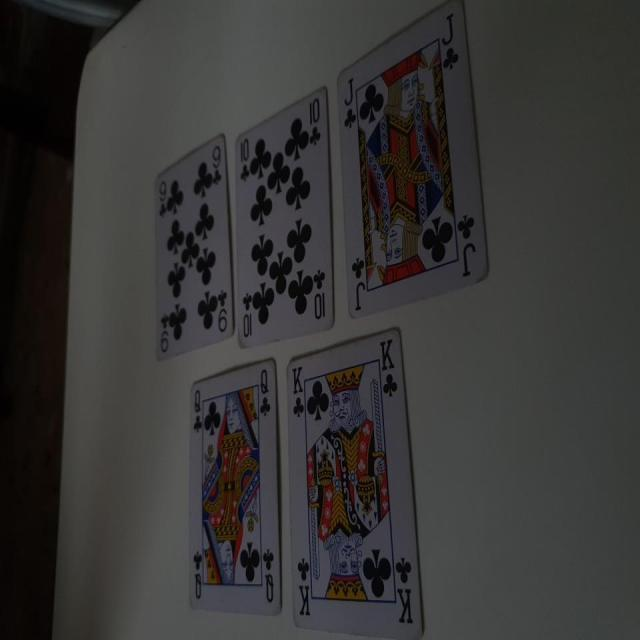10 of clubs: (234, 82, 338, 350)
9 of clubs: (153, 133, 237, 362)
jack of clubs: (336, 1, 494, 321)
king of clubs: (284, 326, 429, 640)
queen of clubs: (185, 357, 288, 618)
